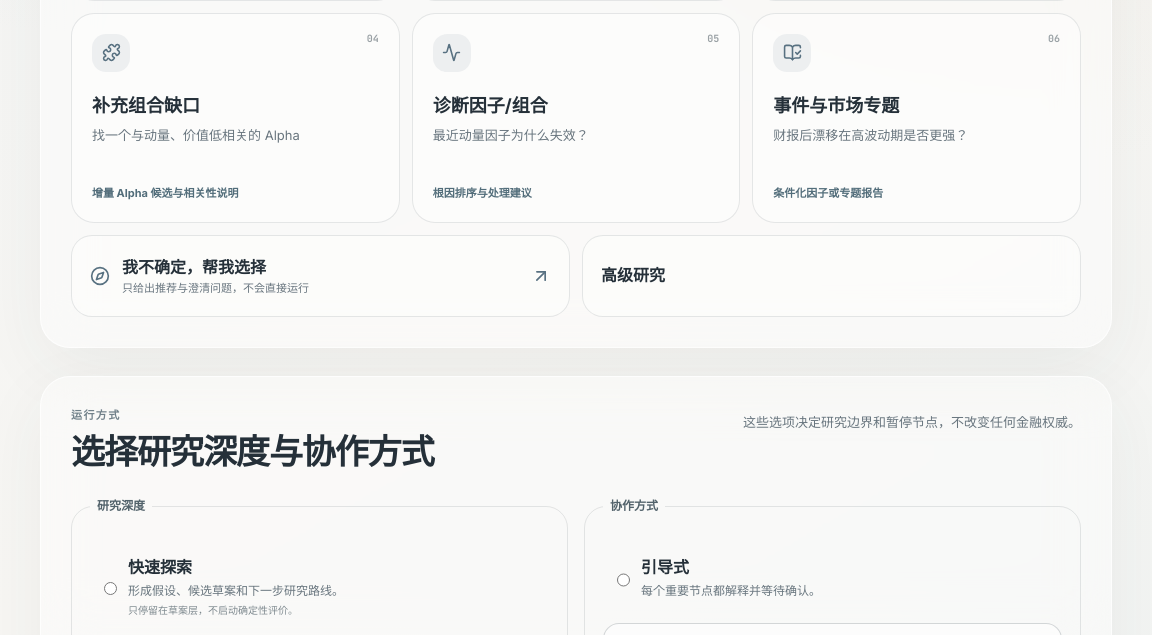
Test case: AlphaForge 中文 Campaign 产品体验 › 首页式工作区以研究问题和研究模式为入口，而不是因子类别入口
(page scrolled)
Check: the button "05 诊断因子/组合 最近动量因子为什么失效？ 根因排序与处理建议" is shown, box [412,13,740,223]
Click the button "我不确定，帮我选择 只给出推荐与澄清问题，不会直接运行": {"x": 194, "y": 267} [71,235,570,317]
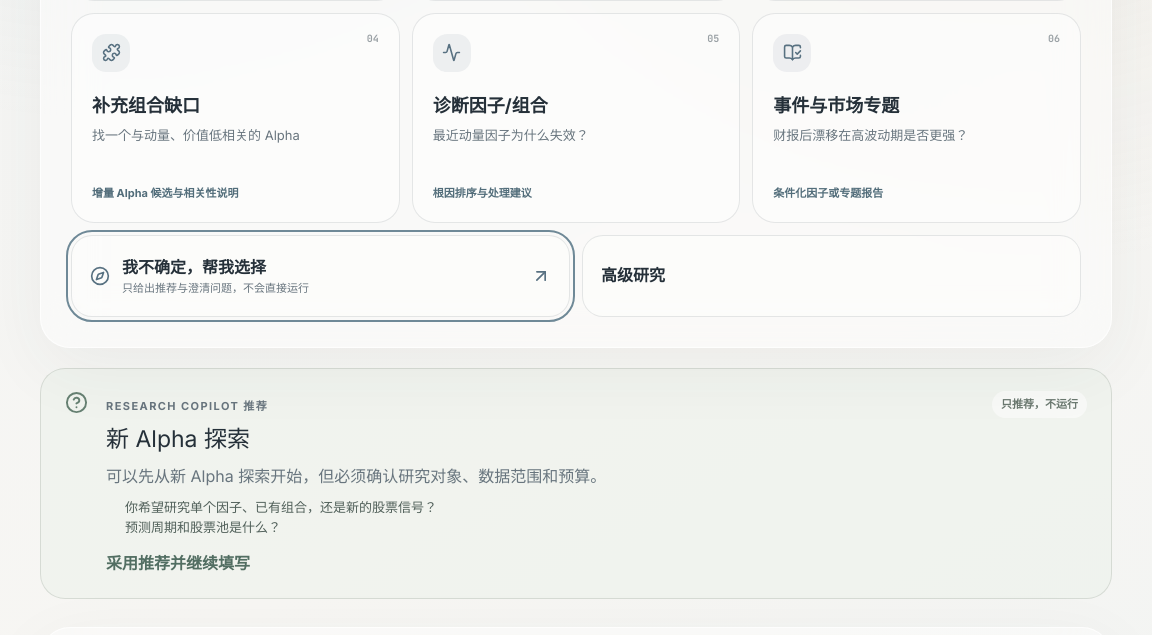
Check: the text "只推荐，不运行" is shown, box [992,391,1087,418]
